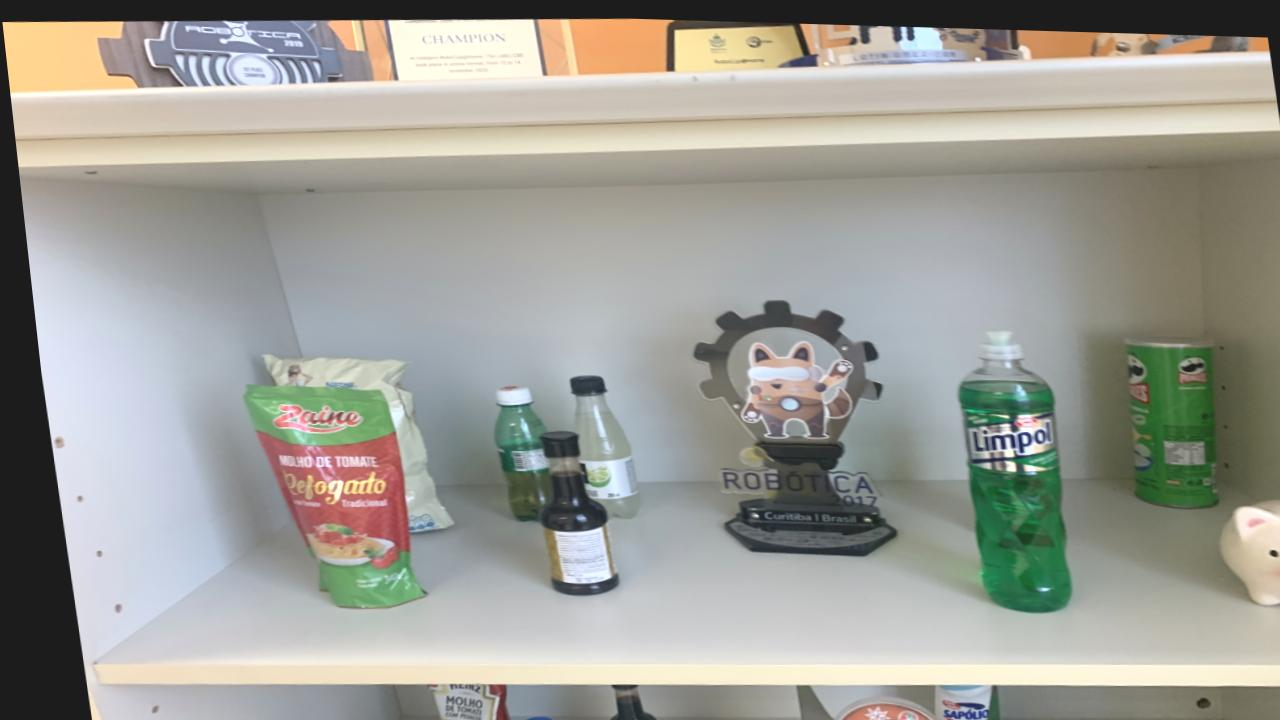Cleaner-Cleanup_Items: (918, 679, 986, 720)
Detergent-Cleanup_Items: (949, 326, 1059, 606)
English_Sauce-Pantry_Items: (526, 429, 606, 592), (592, 682, 642, 720)
Flakes-Snacks: (255, 353, 442, 530)
Guarana-Drinks: (484, 384, 541, 518)
Pig_Safe-Miscellaneous: (1207, 492, 1280, 597)
Pringles-Snacks: (1118, 330, 1207, 501)
Soda-Drinks: (562, 372, 630, 515)
Tomato_Sauce-Pantry_Items: (235, 384, 411, 606), (413, 681, 494, 720)
Trophy-Miscellaneous: (686, 297, 885, 550)
Water_Bottle-Drinks: (506, 713, 539, 720)
